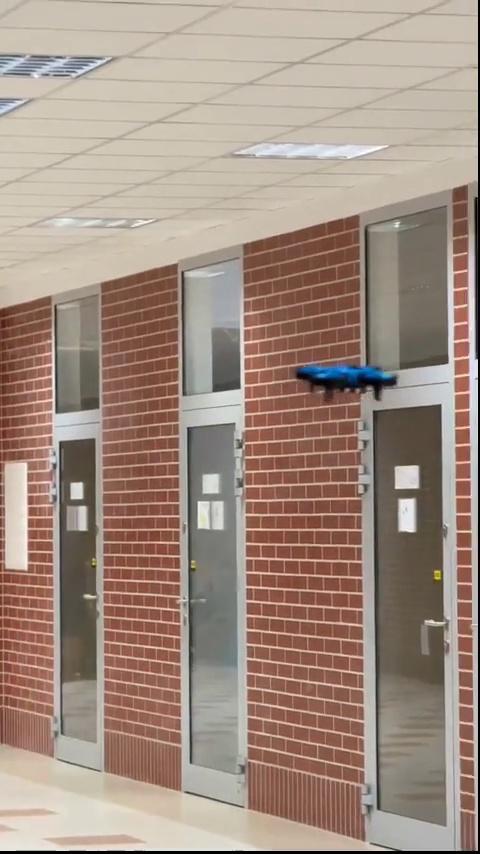drone: (296, 356, 400, 393)
